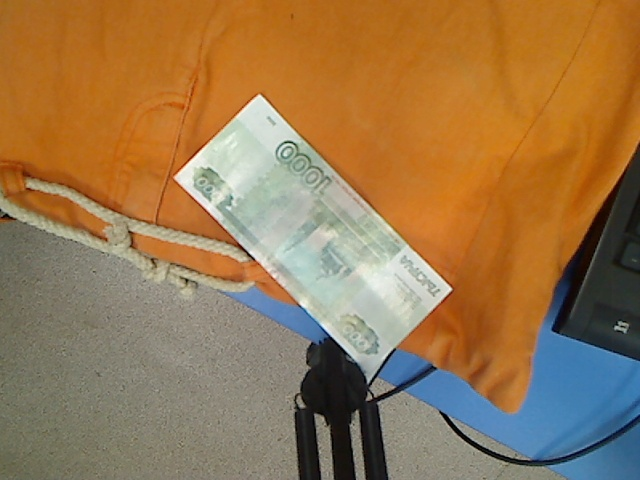banknotes: (173, 94, 454, 387)
